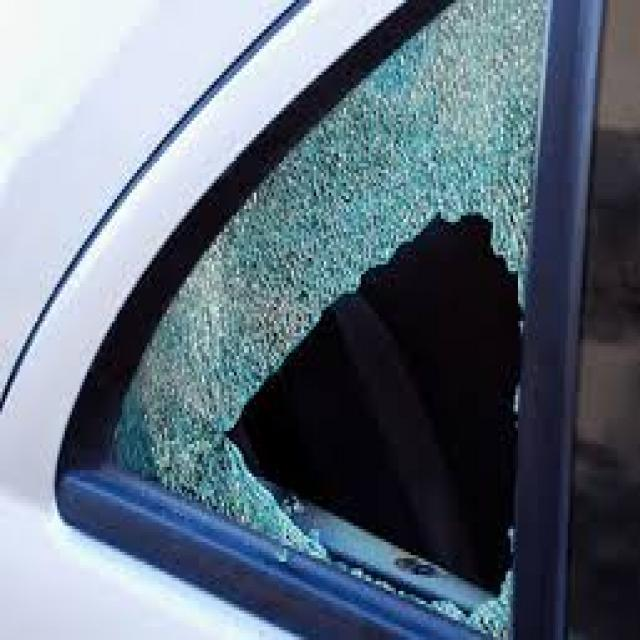damaged-window: (100, 0, 551, 637)
